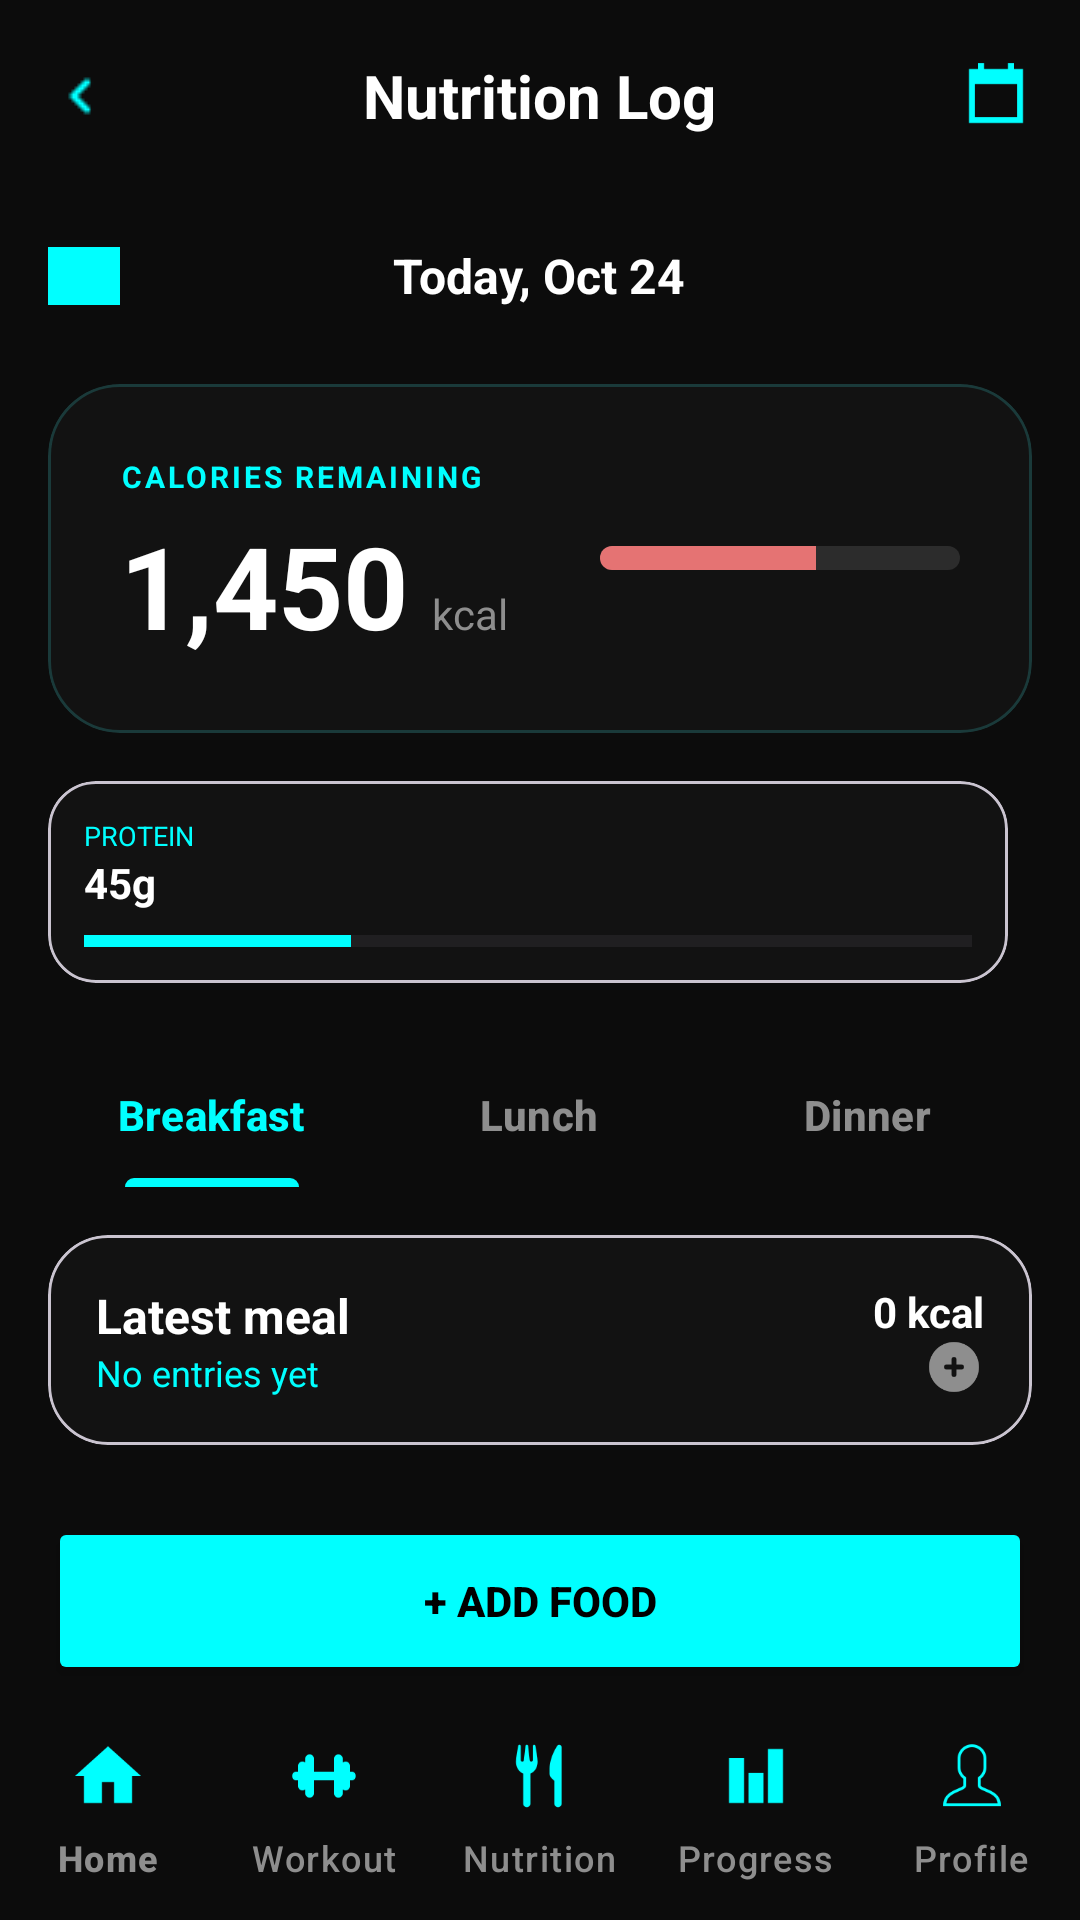

Where to tap for icons on this 1080 × 1920 app screen, as [x,y]:
back: [79,96]
calendar: [996,93]
